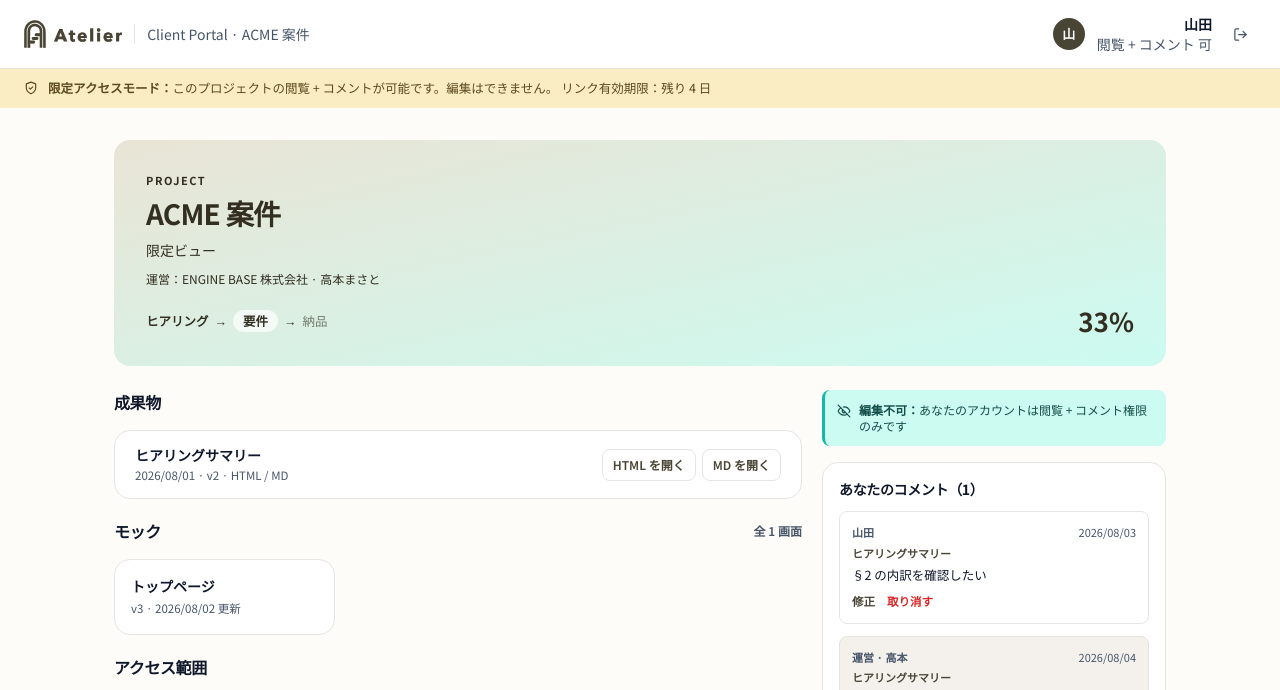
Test case: S-L03 GAP-268 成果物を開く (通し J23-05) › shows the reason when the format is not generated (409) instead of opening a blank tab
What coordinates should you click on to do the following:
click the button with aria-label "ヒアリングサマリー を MD で開く"
I would click on:
 (741, 465)
Its box is [702,449,781,481].
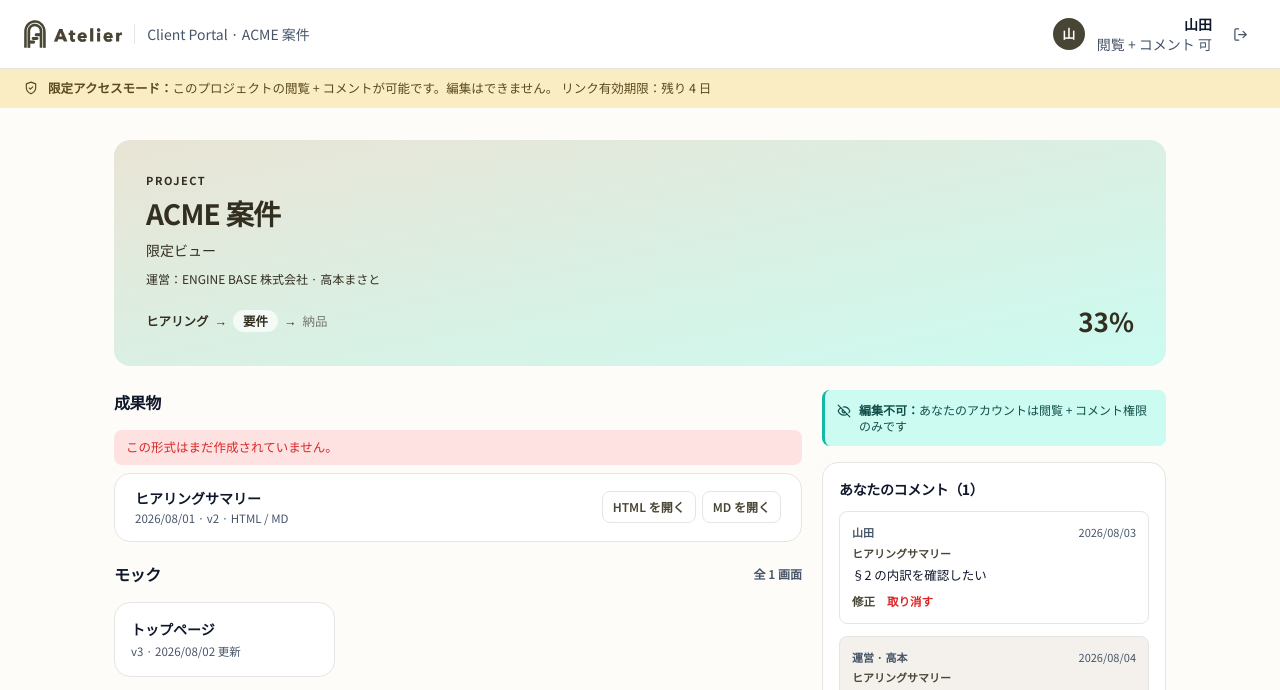
Now the text "この形式はまだ作成されていません。" is shown, box [114,430,802,465]
